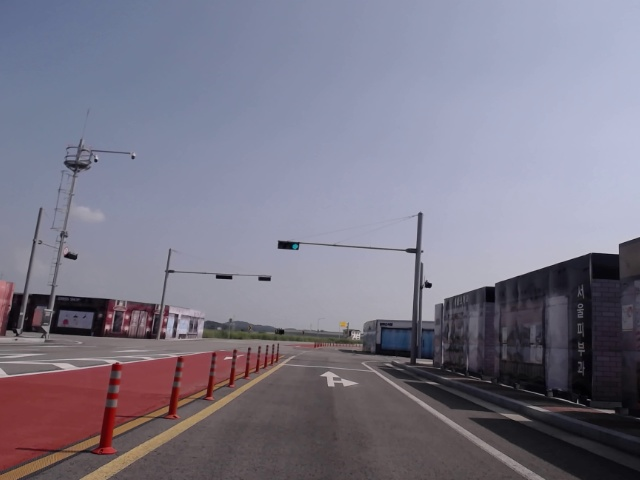green_3: (278, 240, 299, 250)
